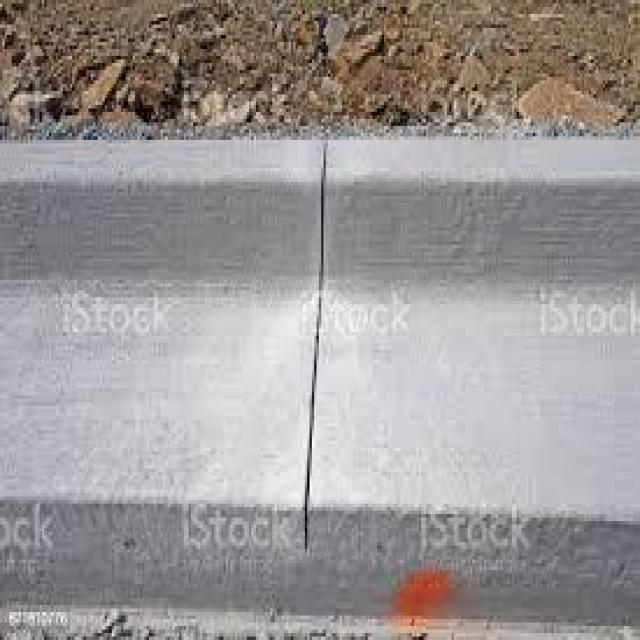curb: (5, 133, 640, 608)
